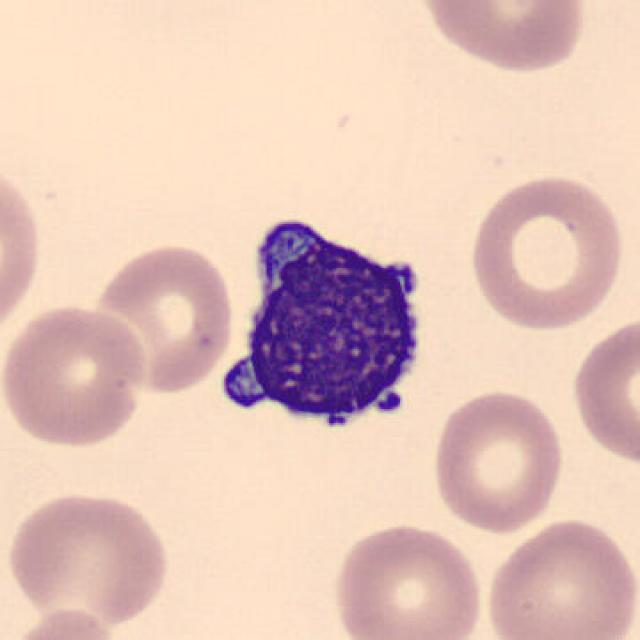Lymphocyte: (206, 201, 441, 453)
RBC: (464, 169, 628, 335), (87, 238, 238, 397), (4, 487, 172, 628), (0, 299, 149, 451), (429, 386, 567, 536), (482, 515, 638, 640), (329, 518, 487, 640), (414, 0, 592, 76), (567, 310, 638, 469), (0, 154, 46, 348), (7, 604, 122, 640)
